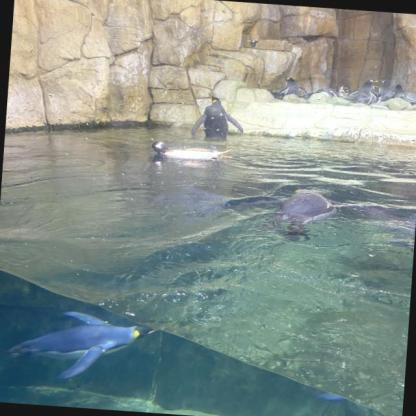penguin: (4, 307, 160, 385), (258, 186, 334, 245), (190, 88, 247, 142), (150, 141, 233, 166), (346, 76, 379, 107), (277, 77, 307, 102), (386, 83, 406, 106), (311, 85, 336, 100), (400, 90, 415, 107), (336, 84, 350, 99)
